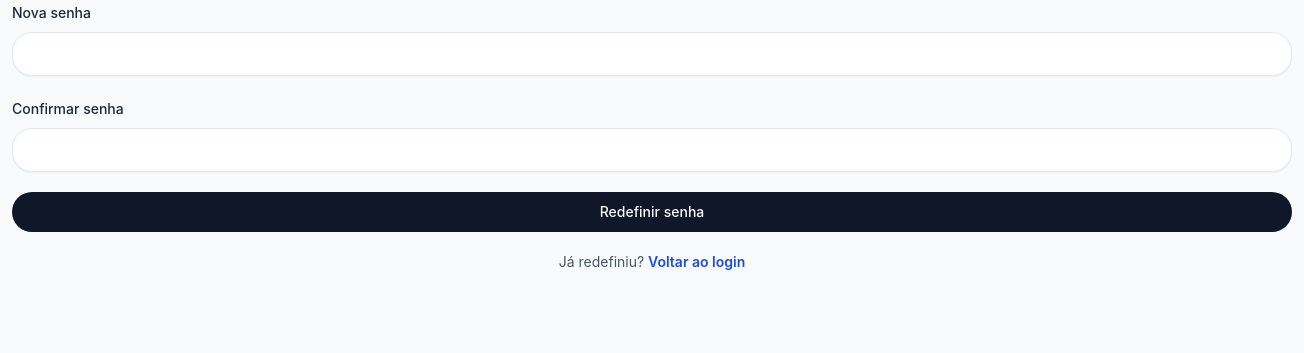
Scenario: ResetPasswordForm › deve redefinir senha com sucesso
Type "NovaSenha123!" into the password field labelled "Nova senha" at (652, 54), box [12,32,1292,76]
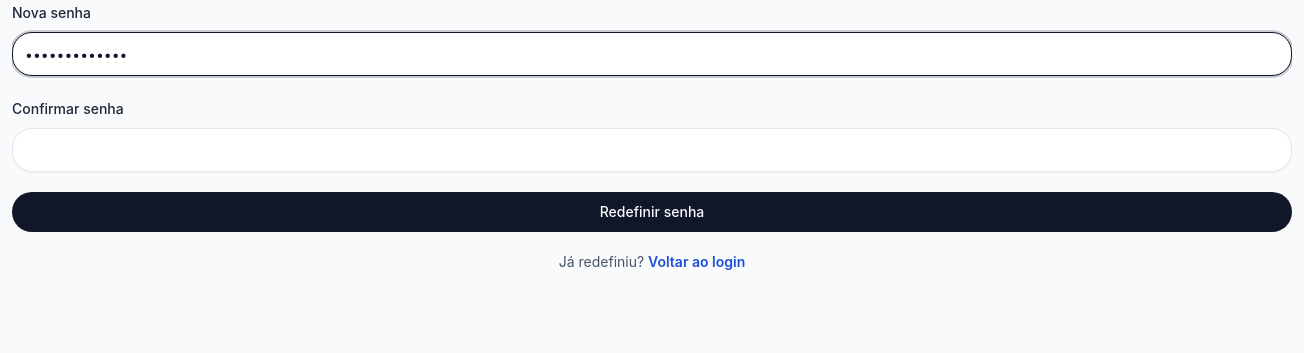
Type "NovaSenha123!" into the password field labelled "Confirmar senha" at (652, 150), box [12,128,1292,172]
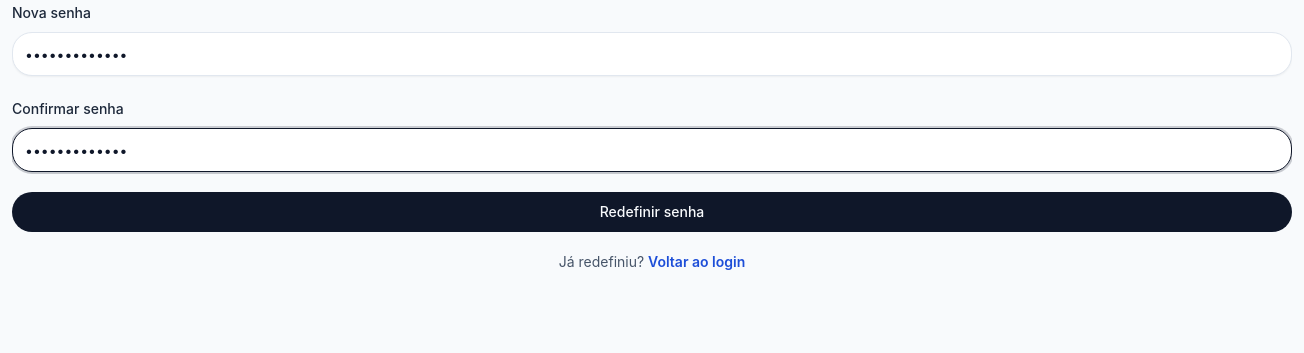
Click the button "Redefinir senha" at (652, 212), box [12,192,1292,232]
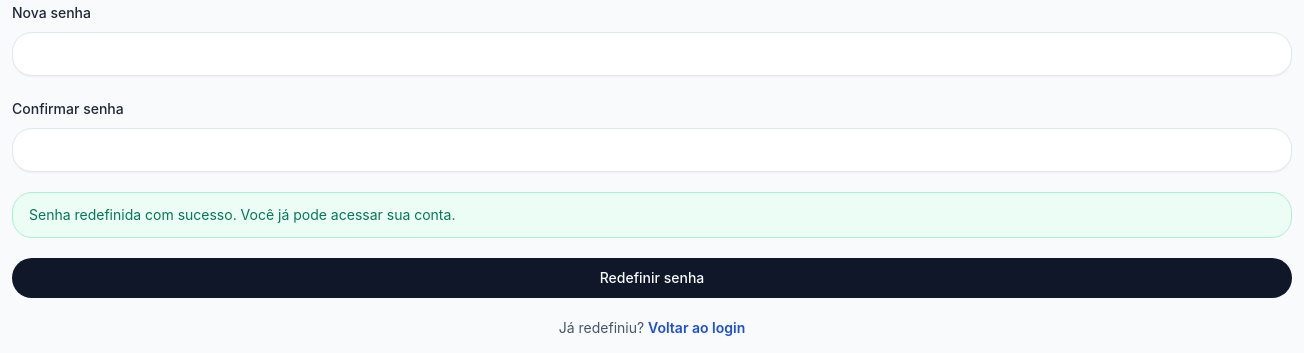
Expected: the message shows "Senha redefinida com sucesso", [29,206,455,223]
